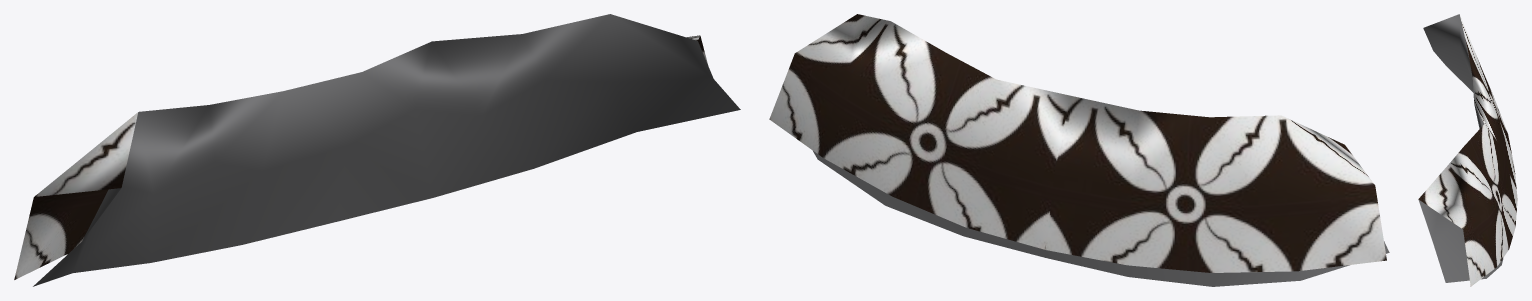
The model's file is Kerah.fbx.
The picture shows the model from 3 angles, left to right: view 1: azimuth 30°, elevation 25°; view 2: azimuth 150°, elevation 25°; view 3: azimuth 270°, elevation 25°; orthographic projection. The views are drawn at different scales.
Parts seen in each view (by area): view 1: Kerah; view 2: Kerah; view 3: Kerah.
Part boxes in pixels (<box>): Kerah: <box>14,14,740,286</box>; Kerah: <box>769,14,1389,286</box>; Kerah: <box>1418,14,1517,286</box>.
Bounding box in the file's own units: 145 × 37.87 × 27.34.
2 materials, 1 textured.
